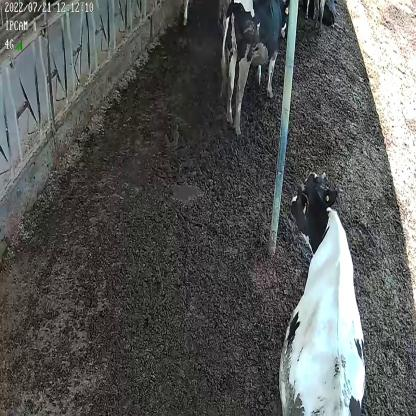cow: (277, 167, 366, 416), (222, 0, 290, 129)
